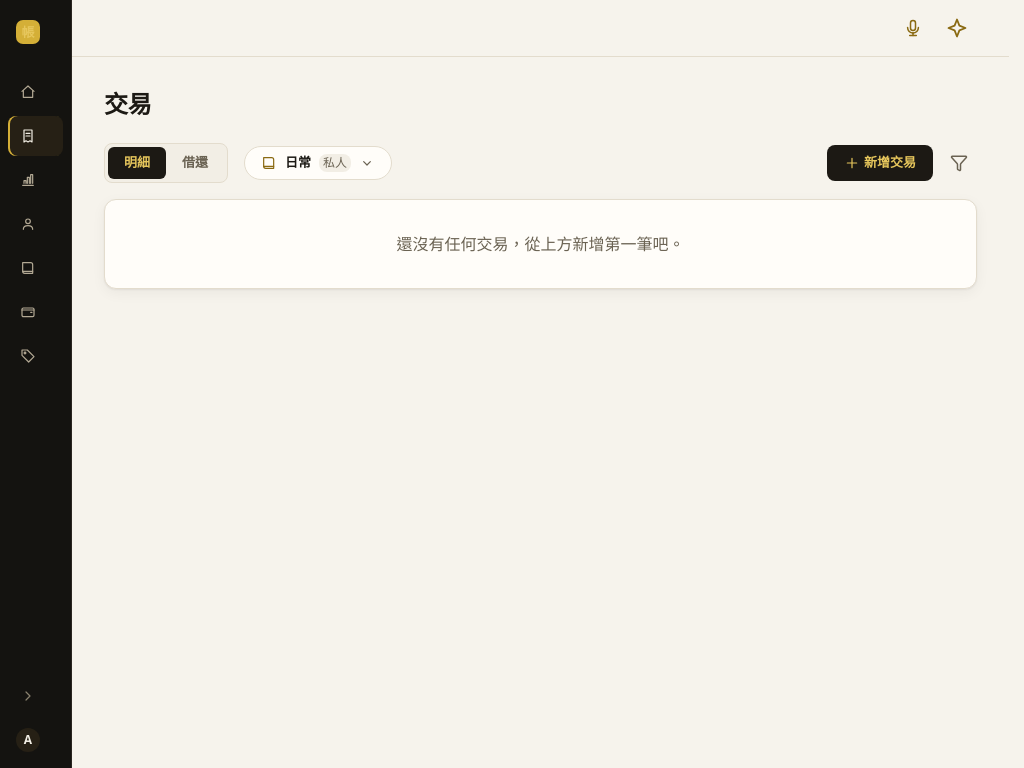
Test: AI drafts on the transactions page › W210 confirms one complete draft, removes it only on success, and discards without writing
Click the button named "AI 記帳": (957, 28) left=937, top=8, right=977, bottom=48
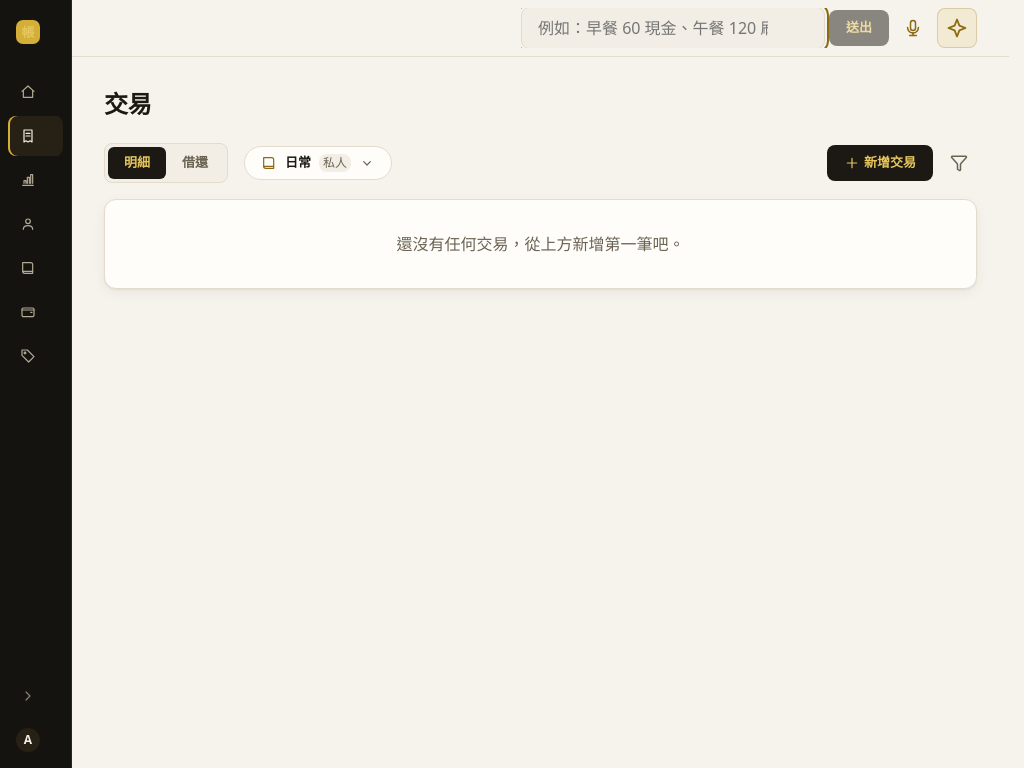
In the field named "用一句話記帳": (673, 28) left=521, top=7, right=825, bottom=49, type "早餐 60 現金"
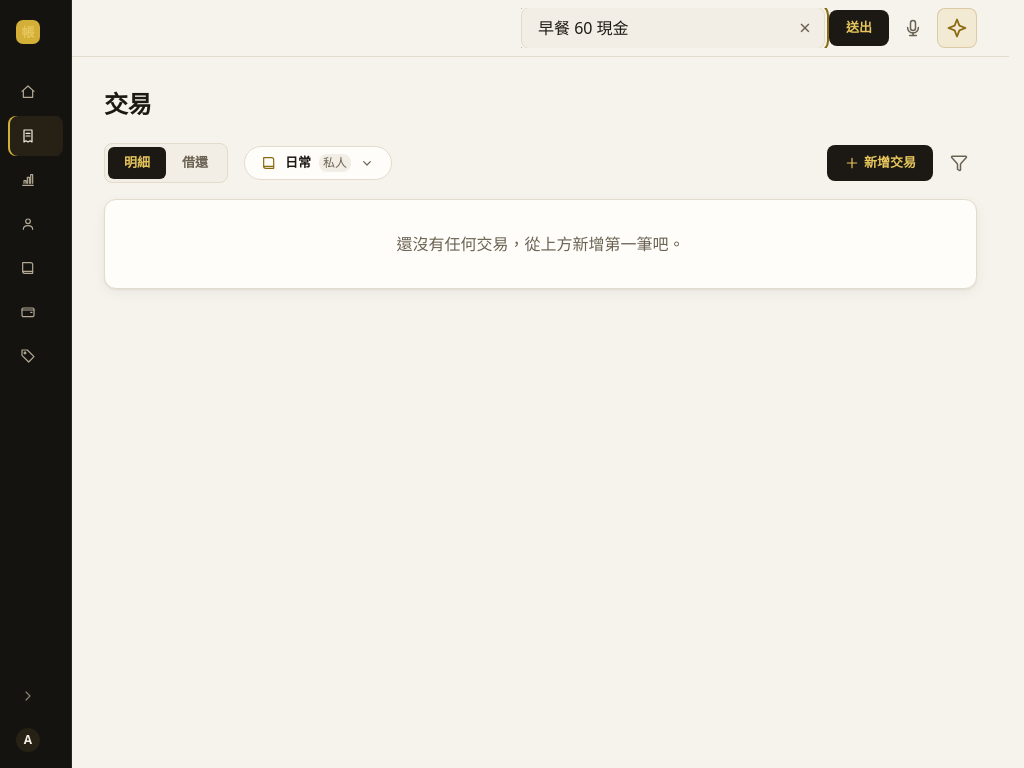
Click the button "送出": (859, 28) left=829, top=10, right=889, bottom=46
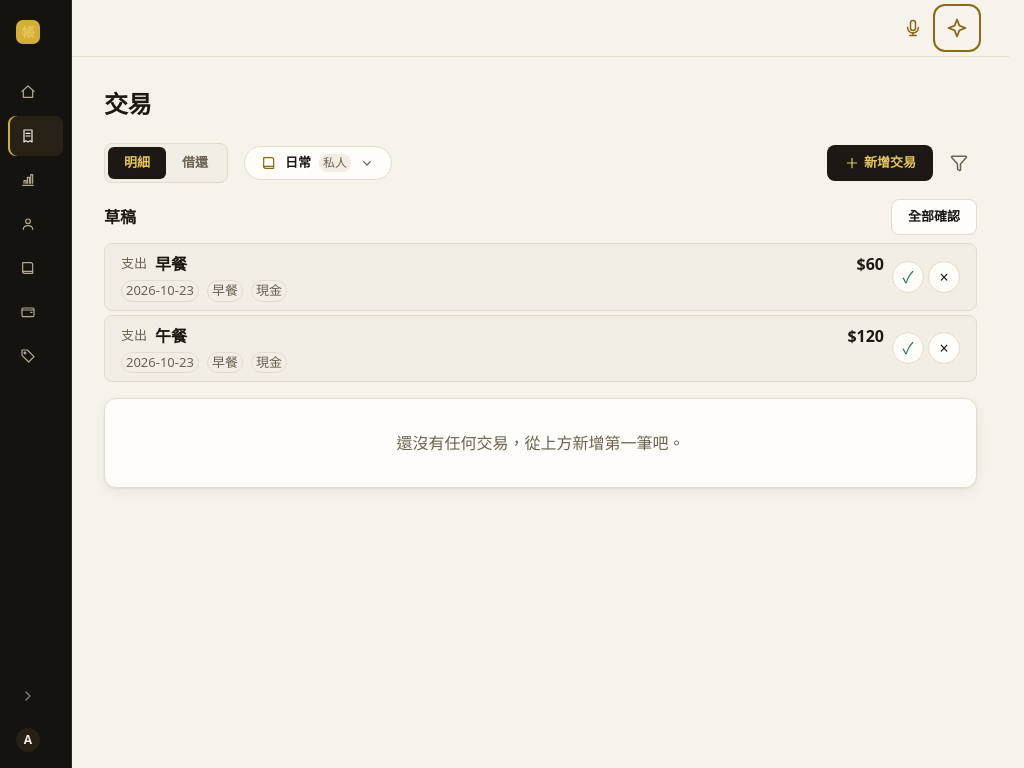
Expected: the number of buttons named "編輯草稿" is 2, left=121, top=252, right=884, bottom=302; left=121, top=324, right=884, bottom=373
Click the button named "移除草稿：午餐": (944, 348) left=928, top=332, right=960, bottom=364
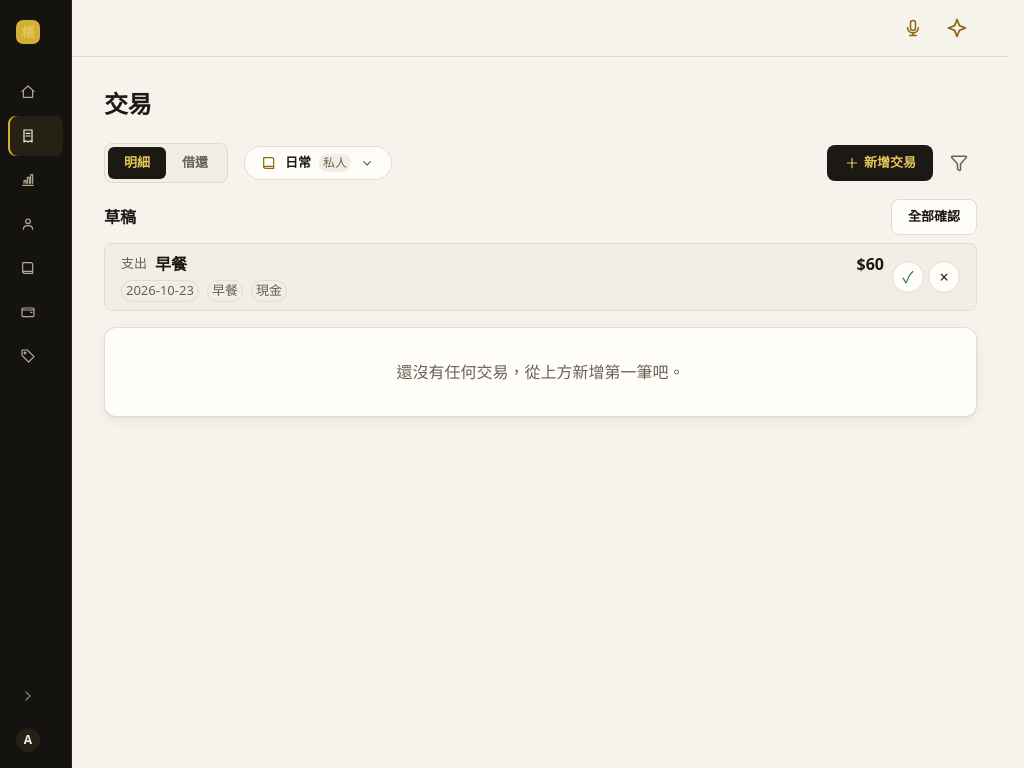
Expected: the button "編輯草稿：午餐" is gone
Click the button named "確認草稿：早餐": (908, 277) left=892, top=261, right=924, bottom=293
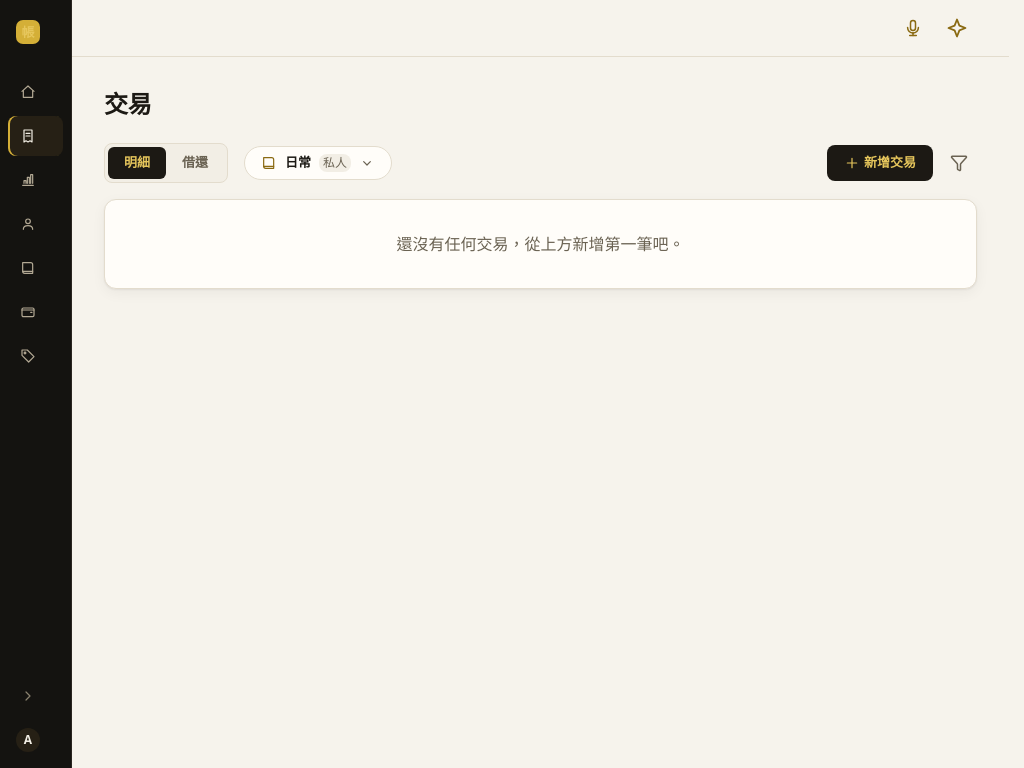
Expected: the button "編輯草稿：早餐" is gone
